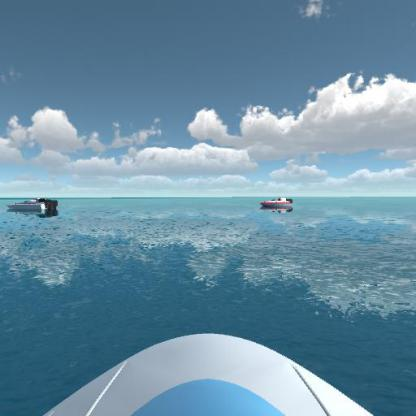usv1: (5, 196, 60, 220)
usv3: (258, 193, 296, 215), (20, 194, 50, 206)
